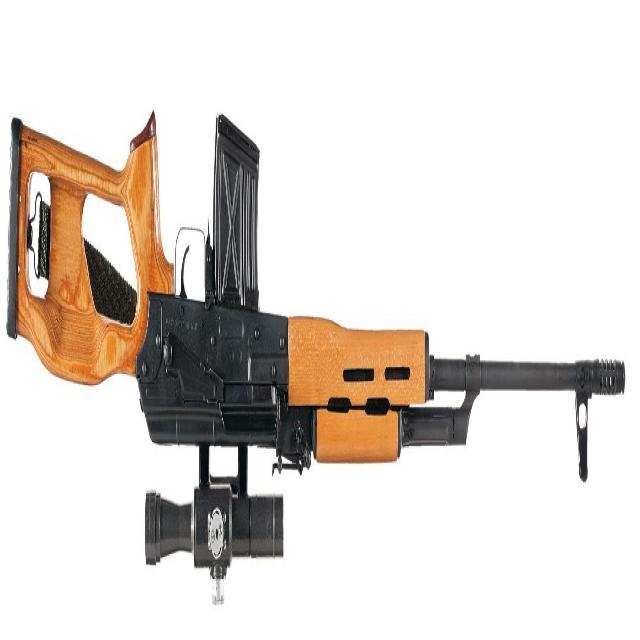weapon: (6, 112, 626, 607)
